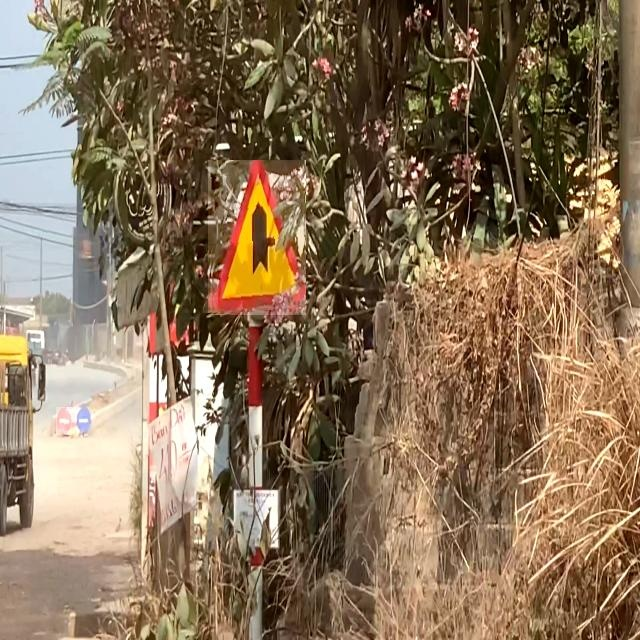bien_nguy_hiem: (208, 160, 306, 315), (56, 407, 72, 435)
